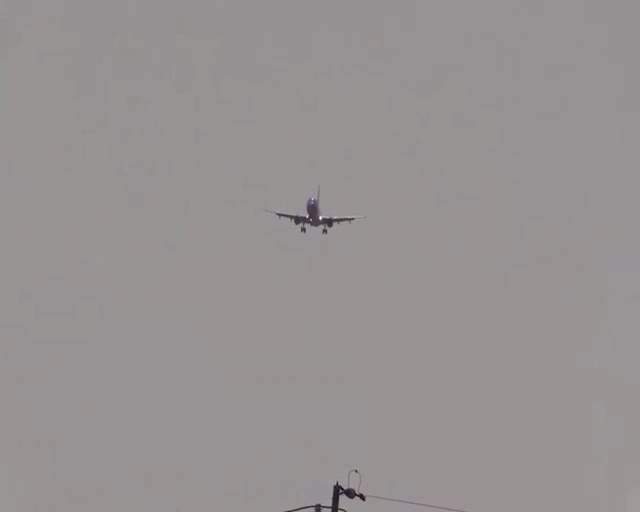AIRPLANE: (263, 184, 366, 234)
